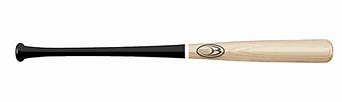bat: (14, 37, 335, 66)
